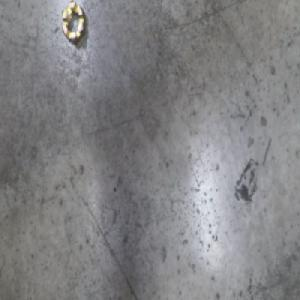Nut: (61, 3, 87, 46)
